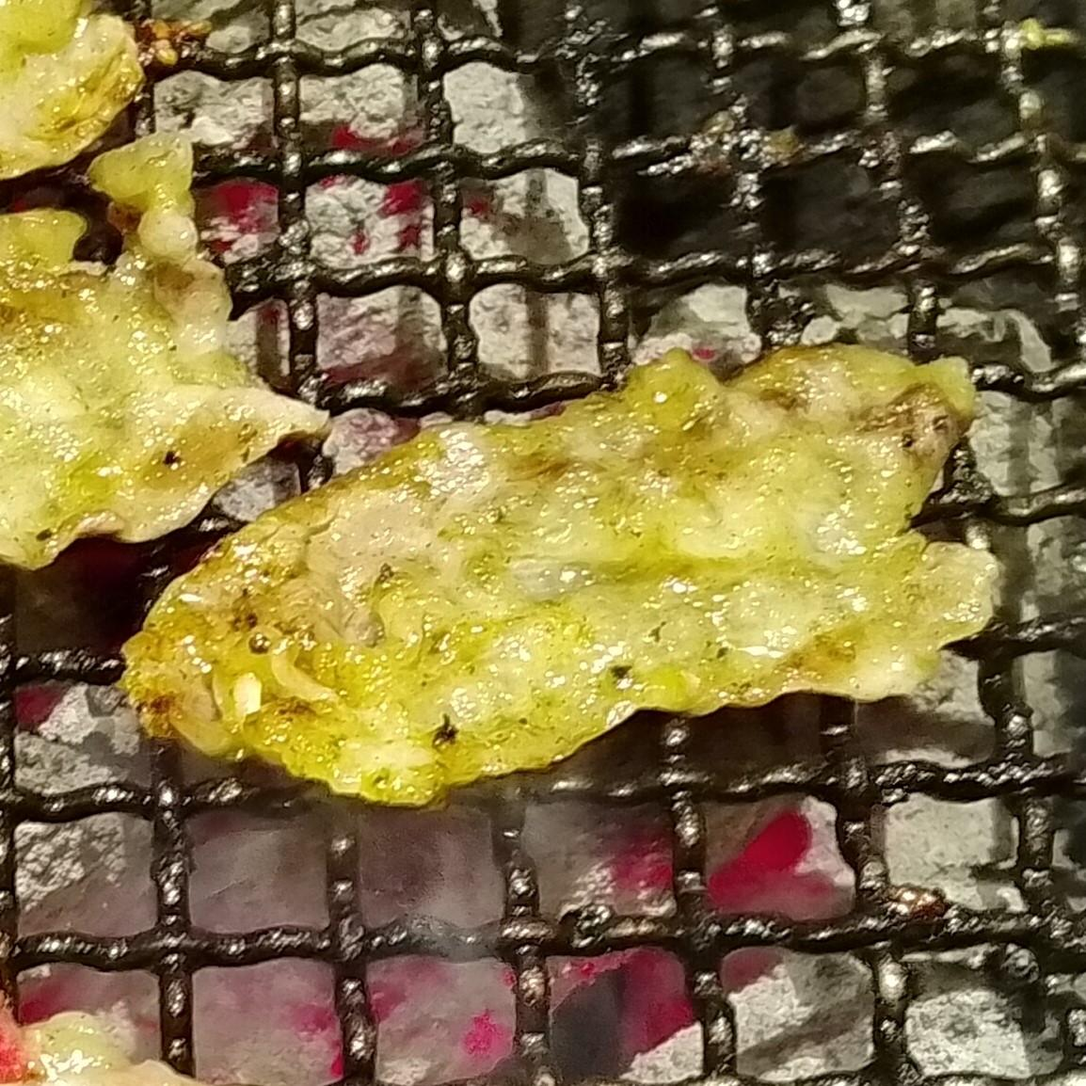Well-Cooked: (120, 346, 985, 813), (0, 138, 330, 572), (0, 0, 143, 186)
